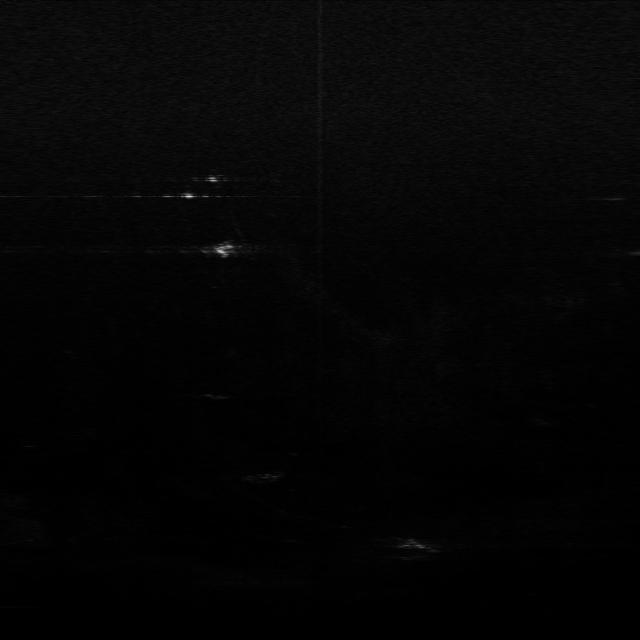rov: (208, 240, 243, 262)
